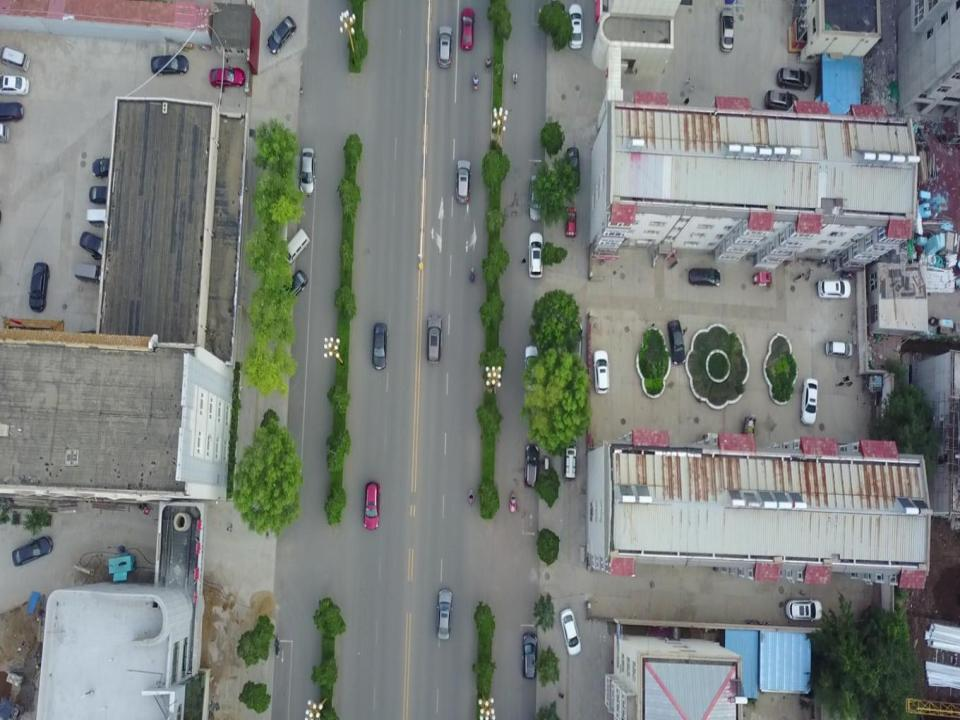car: (12, 534, 52, 566), (266, 15, 297, 56), (275, 269, 308, 305), (559, 607, 581, 655), (80, 230, 114, 260), (666, 320, 688, 365), (28, 262, 48, 310), (800, 378, 819, 426), (764, 89, 798, 115), (298, 147, 316, 196), (210, 65, 246, 88), (786, 599, 822, 621), (777, 68, 811, 91), (151, 55, 188, 76), (426, 316, 442, 364), (437, 589, 452, 640), (568, 3, 584, 50), (364, 483, 380, 530), (436, 25, 453, 69), (718, 7, 735, 51), (593, 350, 610, 394), (522, 632, 538, 678), (528, 232, 544, 278), (372, 322, 387, 370), (524, 346, 540, 391), (455, 159, 471, 204), (0, 72, 29, 96), (528, 175, 543, 221), (92, 157, 124, 178), (460, 7, 475, 51), (565, 147, 580, 190), (688, 267, 720, 287), (818, 278, 850, 298), (524, 444, 538, 488), (90, 184, 118, 204), (826, 340, 854, 358), (0, 101, 23, 121), (566, 206, 578, 237)
van: (280, 228, 310, 265), (0, 45, 30, 71), (73, 263, 106, 283), (564, 435, 578, 481), (86, 209, 118, 228)
